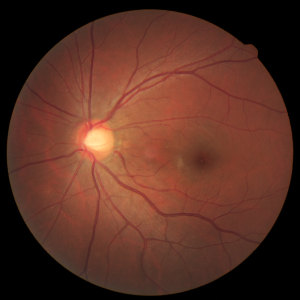glaucoma: (43, 93, 256, 219)
